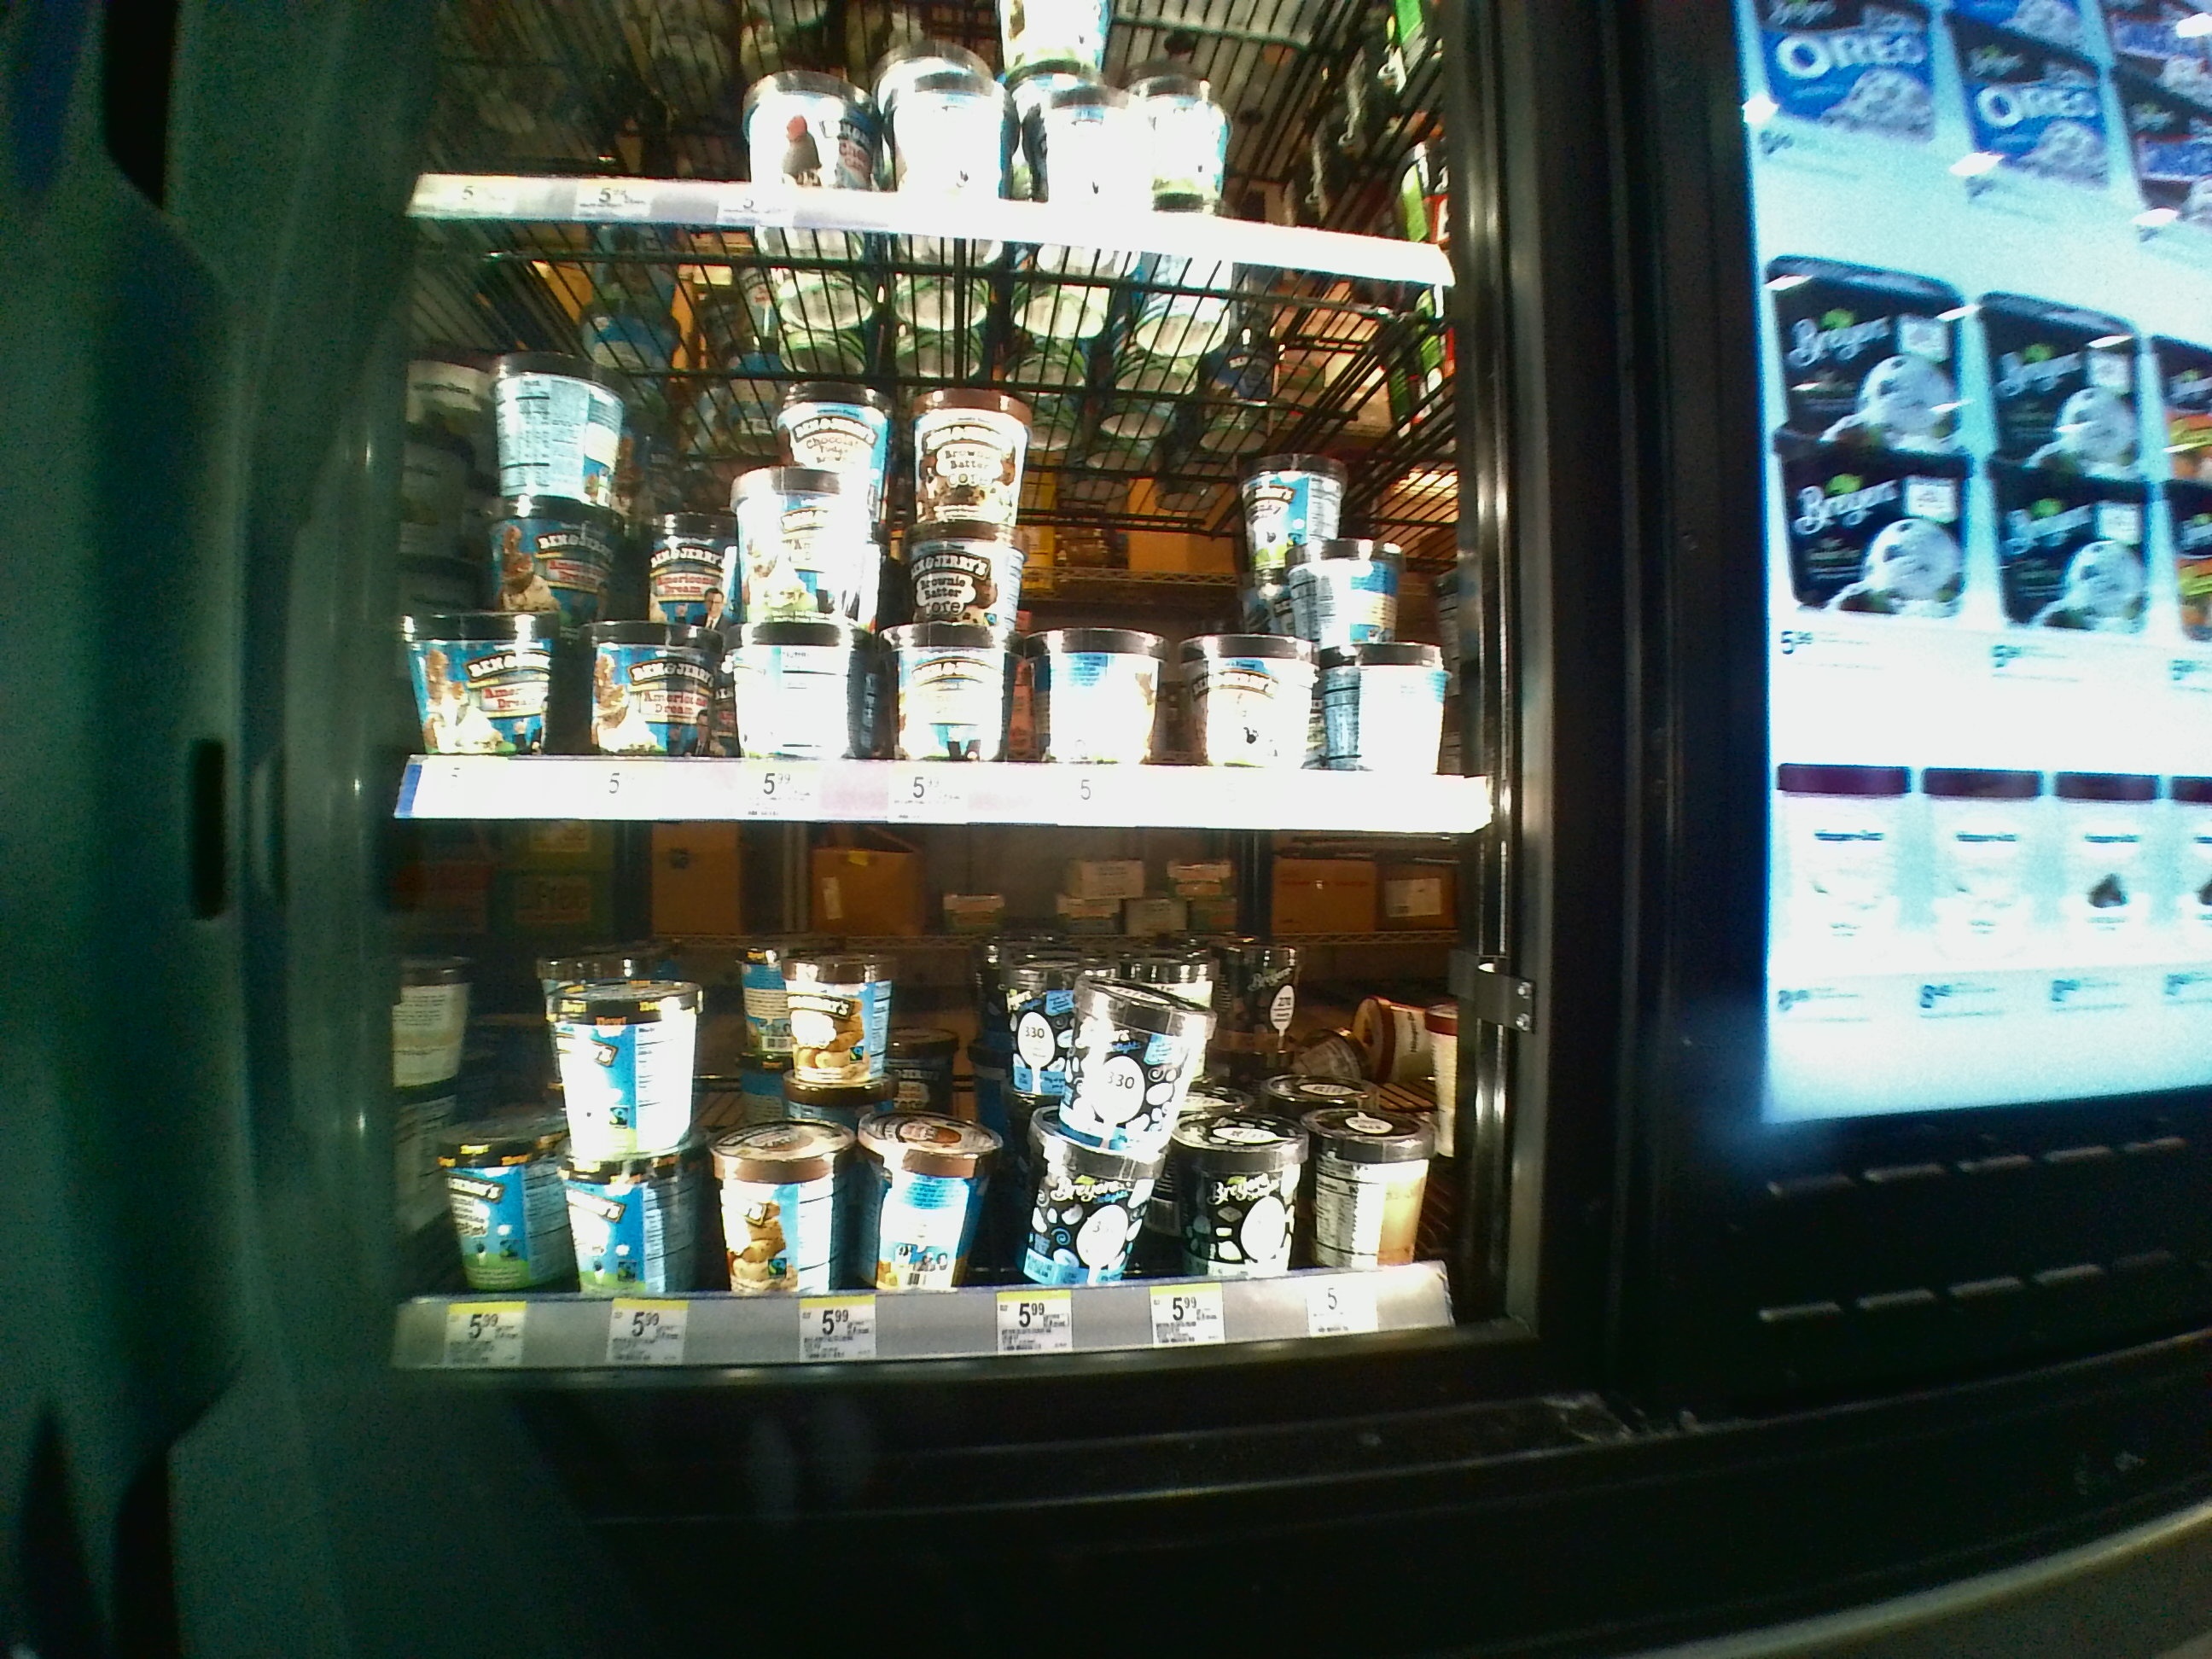shelf: (392, 216, 1493, 824), (387, 838, 1496, 1366)
